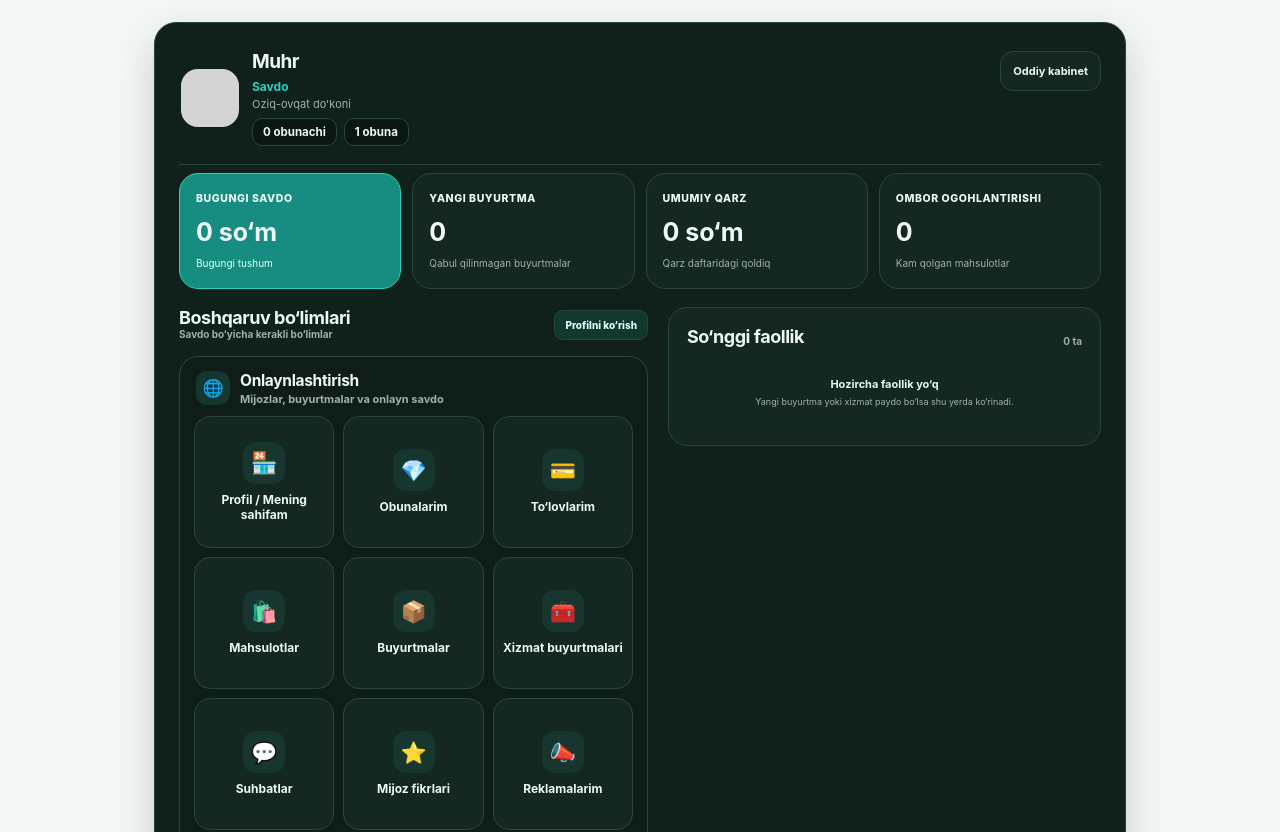
v1656 business profile parity › opens followers and following screens from the profile counters
The width and height of the screenshot is (1280, 832).
Click the button "🏪 Profil / Mening sahifam".
click(264, 482)  # box [194,416,334,548]
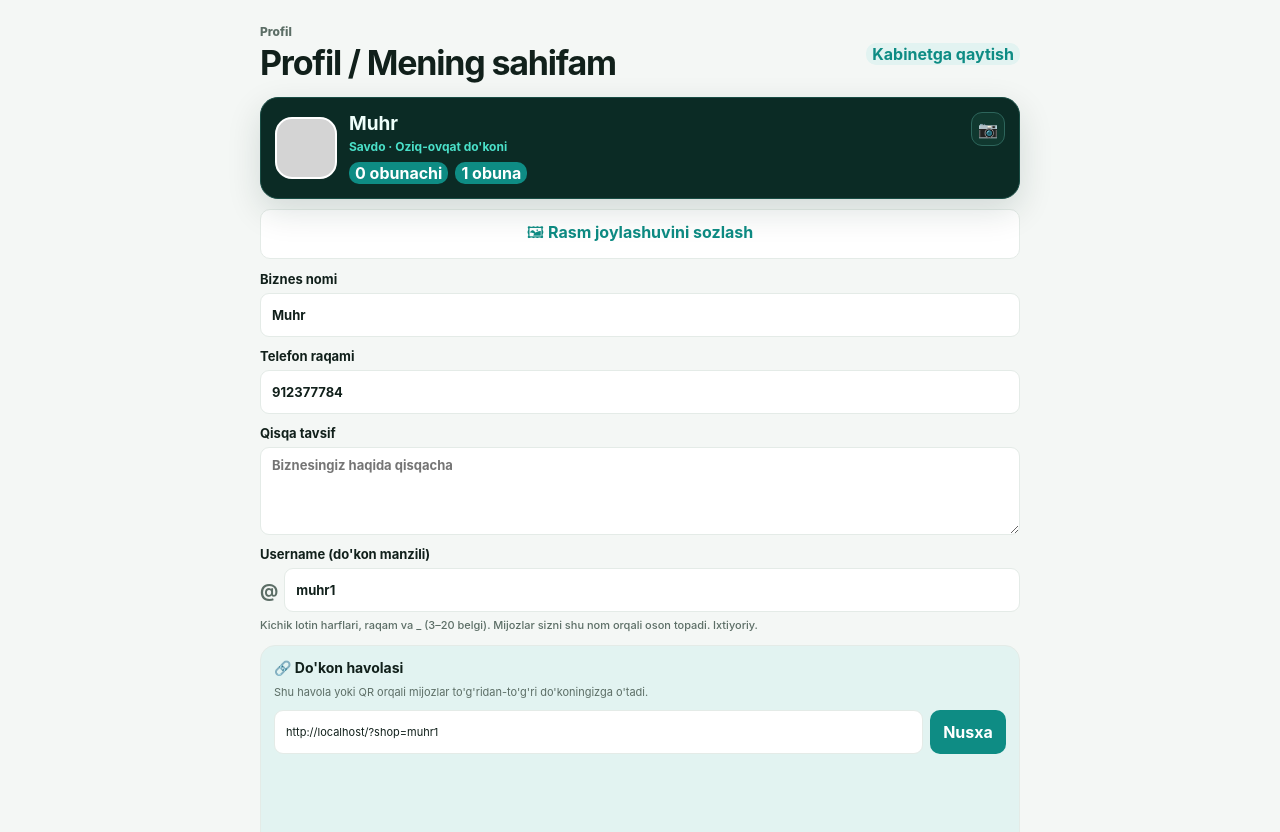
Click the button "0 obunachi".
click(399, 173)  # box [349,162,448,184]
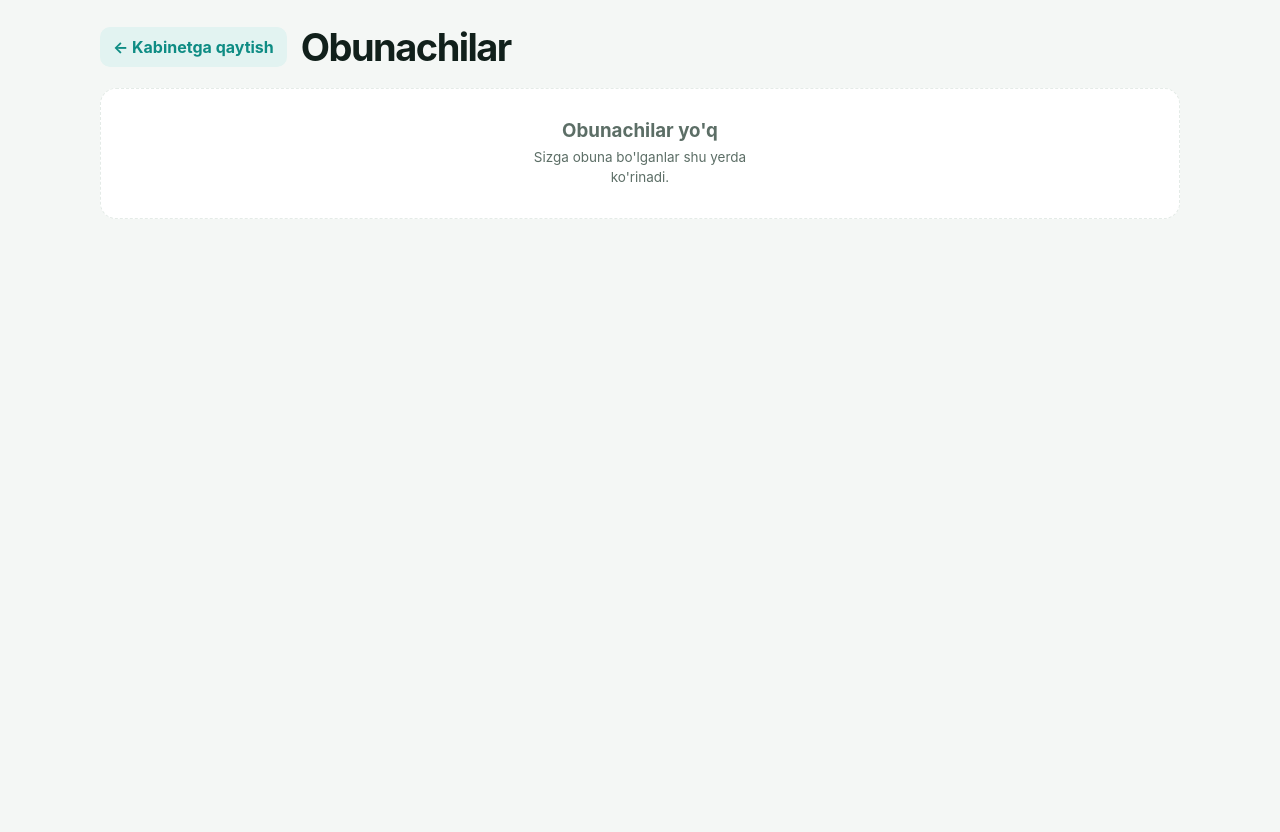
expect the heading "Obunachilar" is shown: met, box [301,24,511,70]
